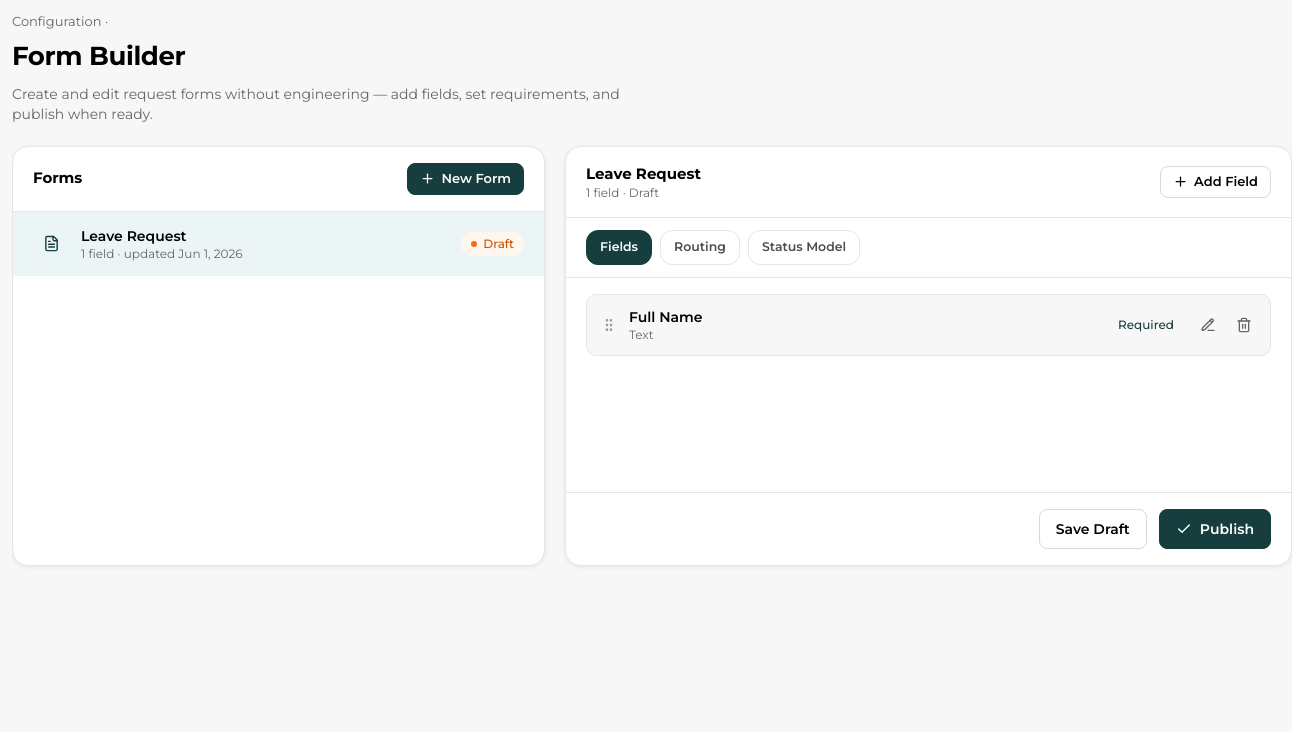
Test: Publish is disabled with no fields and enabled otherwise; publishing reloads as published
Expected: the text "Full Name" is shown, [629,308,703,326]
Click the button "Publish": (1215, 528) [1159,508,1271,548]
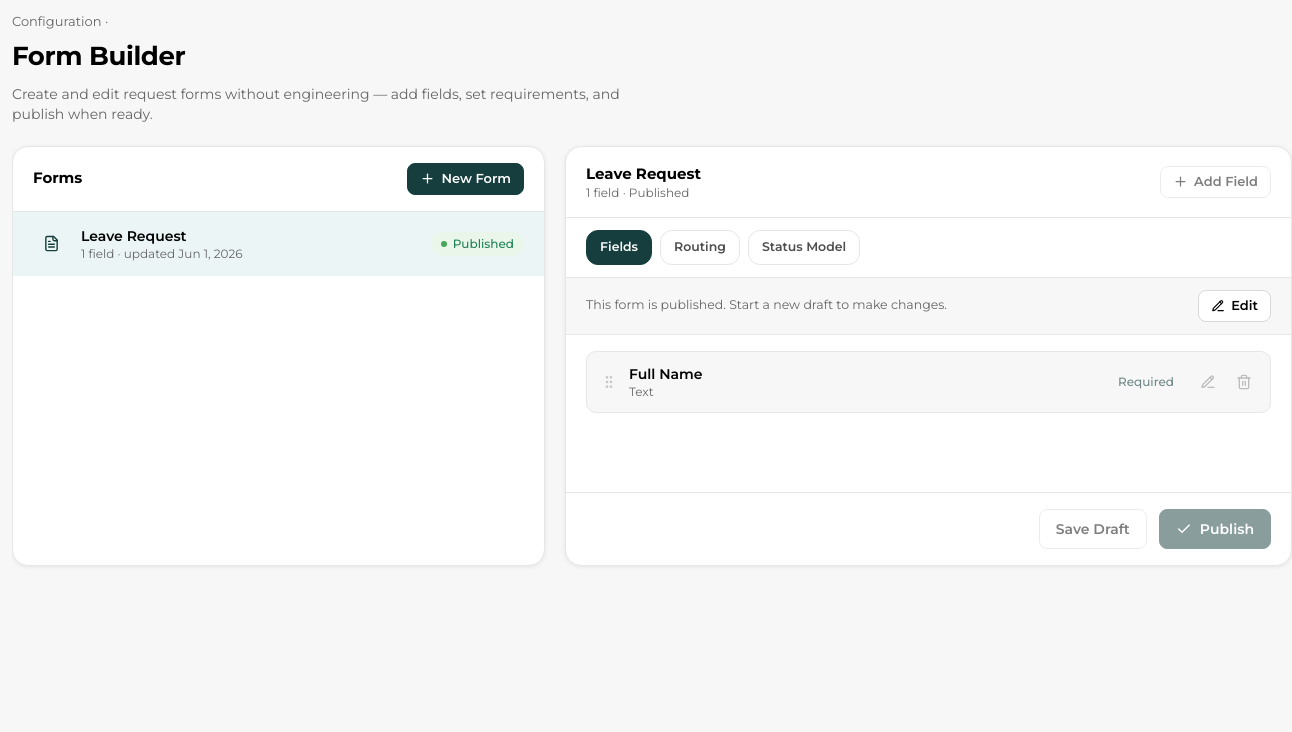
Now the text "This form is published. Start a new draft to make changes." is shown, box [586,296,947,315]
